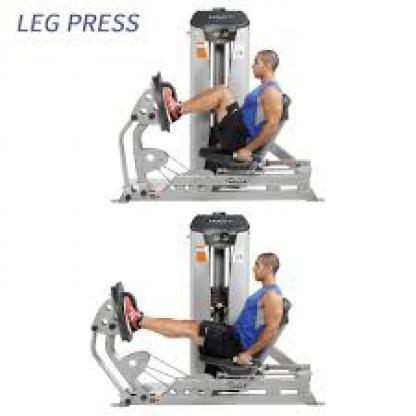leg press: (61, 3, 366, 205), (63, 207, 335, 416)
